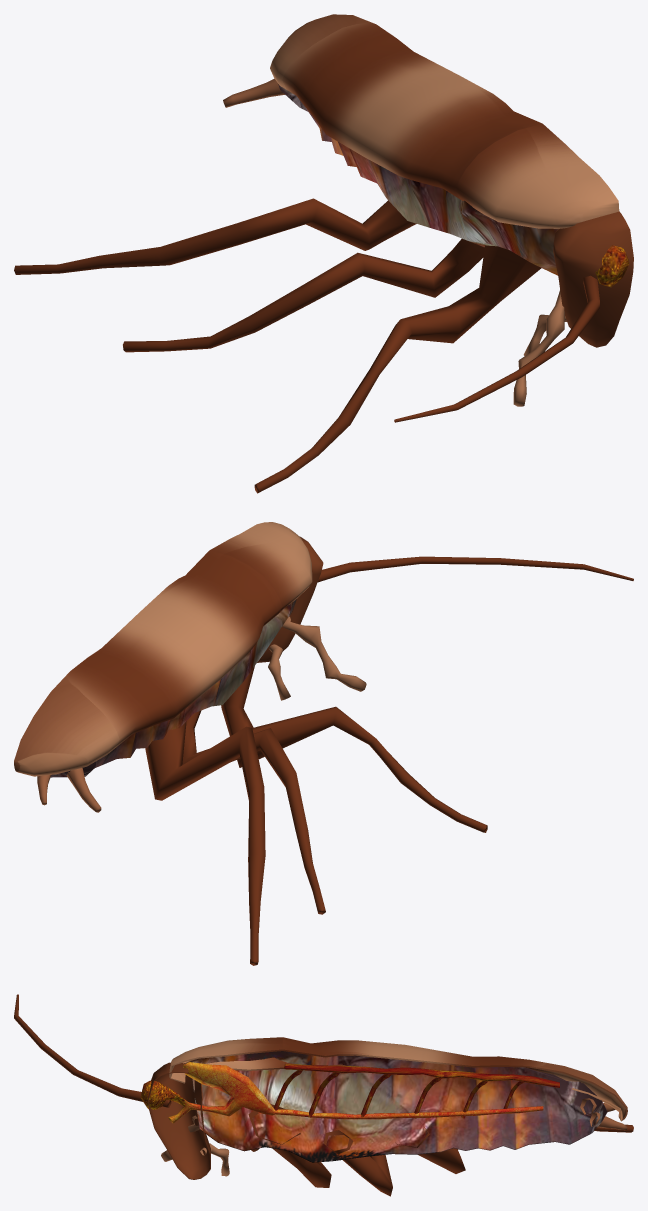
File: cockroach.fbx
3 renders of one model, top to bottom at view 1: azimuth 30°, elevation 25°; view 2: azimuth 150°, elevation 25°; view 3: azimuth 270°, elevation 25°, orthographic. The views are drawn at different scales.
Visible parts, largest first — view 1: polySurface10, cackroach, polySurface12; view 2: polySurface10, cackroach, polySurface12; view 3: polySurface12, cackroach, polySurface10.
Boxes of the visible parts, <box> form: polySurface10: <box>270,14,619,228</box>; cackroach: <box>14,78,633,493</box>; polySurface12: <box>278,84,558,275</box>; polySurface10: <box>14,522,312,776</box>; cackroach: <box>37,536,633,965</box>; polySurface12: <box>50,599,296,777</box>; polySurface12: <box>185,1051,607,1162</box>; cackroach: <box>14,994,633,1196</box>; polySurface10: <box>169,1037,627,1121</box>.
Bounding box in the file's own units: 132 × 107 × 292.
